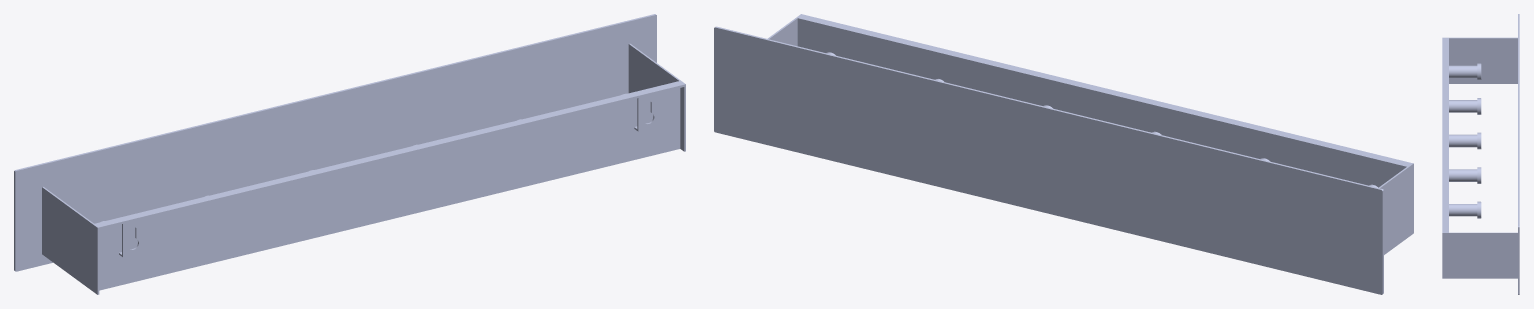
Rendered from skyline-hook.4c59722724.glb.
The picture shows the model from 3 angles, left to right: view 1: azimuth 30°, elevation 25°; view 2: azimuth 150°, elevation 25°; view 3: azimuth 270°, elevation 25°; orthographic projection. The views are drawn at different scales.
Parts seen in each view (by area): view 1: NAUO1; view 2: NAUO1; view 3: NAUO1.
Part boxes in pixels (x1,y1,x2,y2): NAUO1: (14, 14, 685, 294); NAUO1: (714, 14, 1413, 294); NAUO1: (1442, 14, 1519, 294).
Size of the model in its own units: 0.6 by 0.09 by 0.092.
